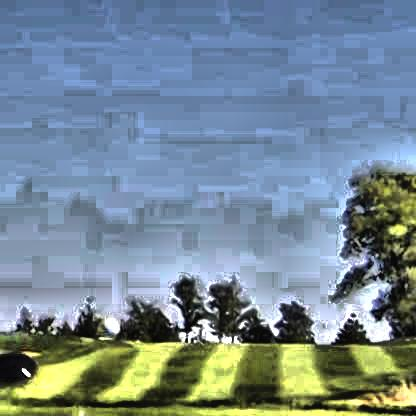golfball: (98, 315, 116, 337)
